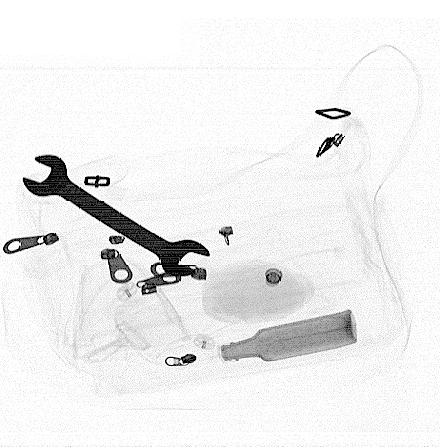Wrench: (23, 155, 212, 275)
